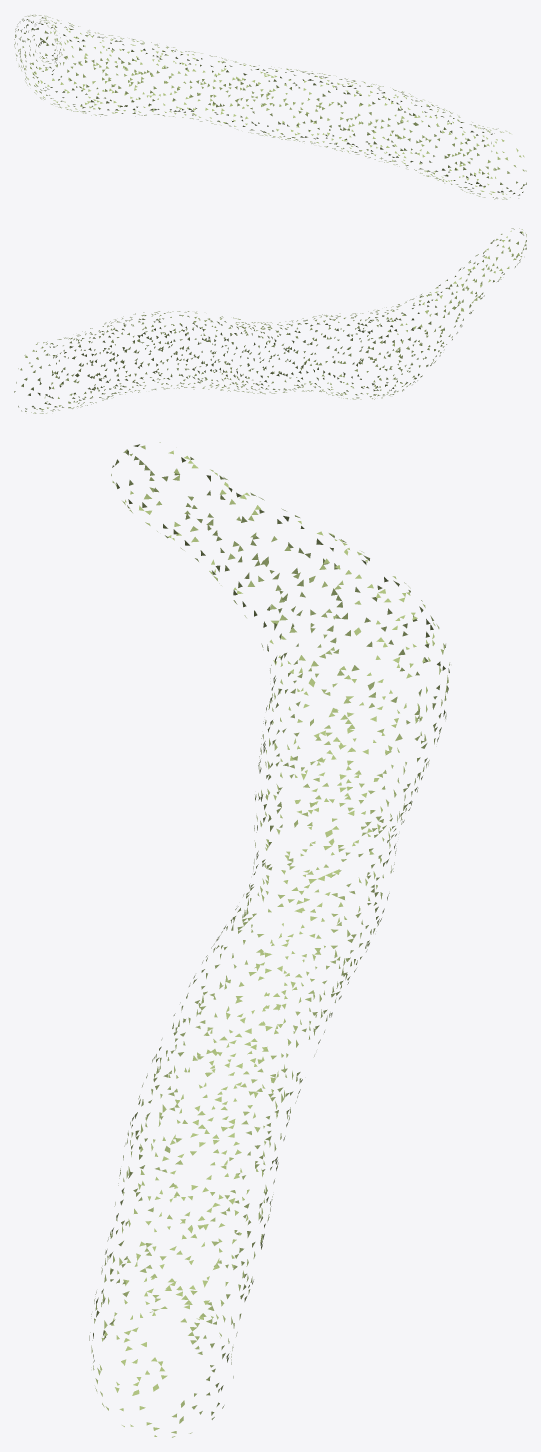
Rendered from morph_011.glb.
3 renders of one model, top to bottom at view 1: azimuth 30°, elevation 25°; view 2: azimuth 150°, elevation 25°; view 3: azimuth 270°, elevation 25°, orthographic. The views are drawn at different scales.
Size of the model in its own units: 107 by 61.84 by 36.38.
